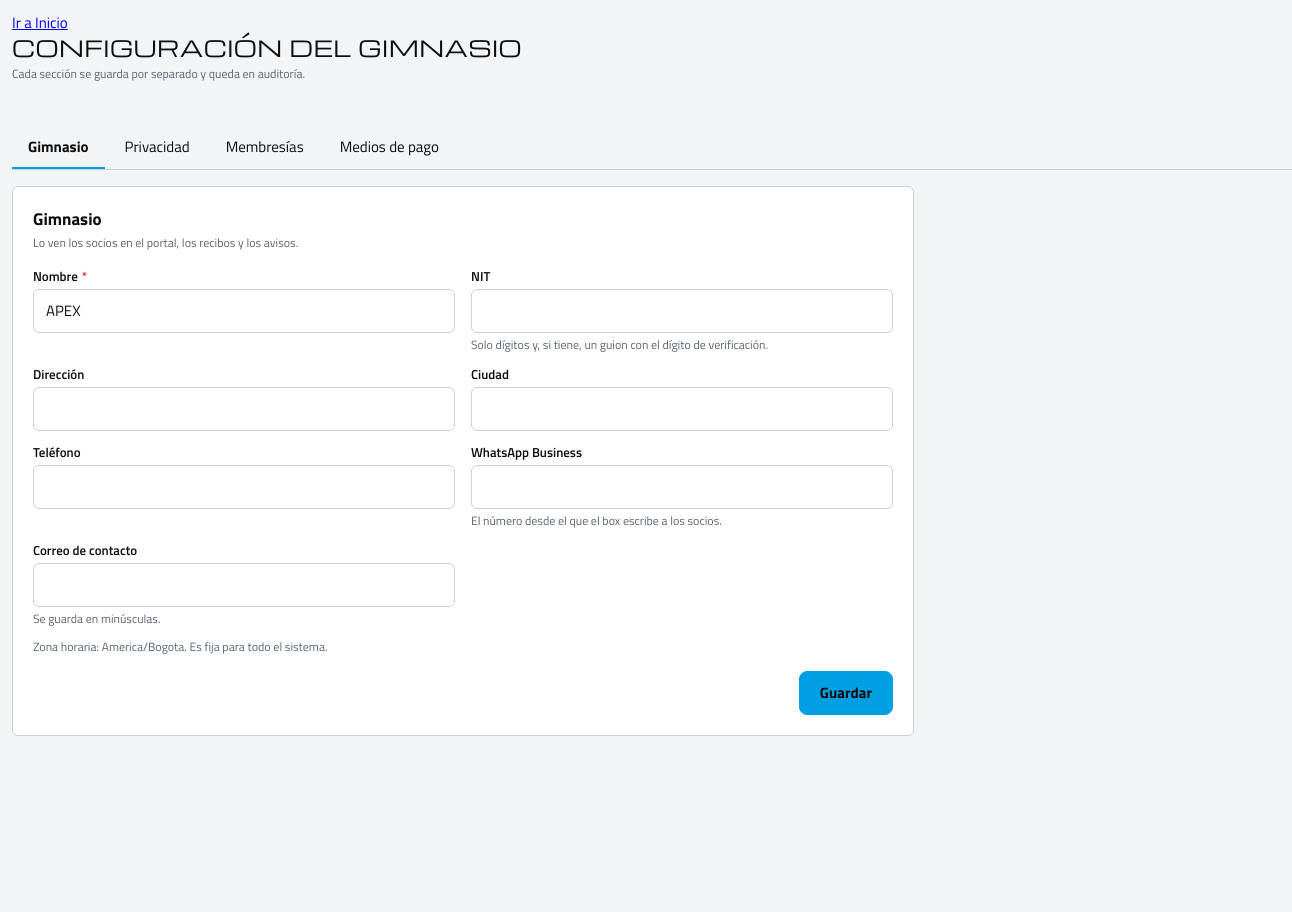
Test: ConfigPage › cambiar de pestaña sin cambios no pide confirmación y deja la pestaña en la URL
Click the tab "Membresías" at (265, 148), box [210, 126, 320, 170]
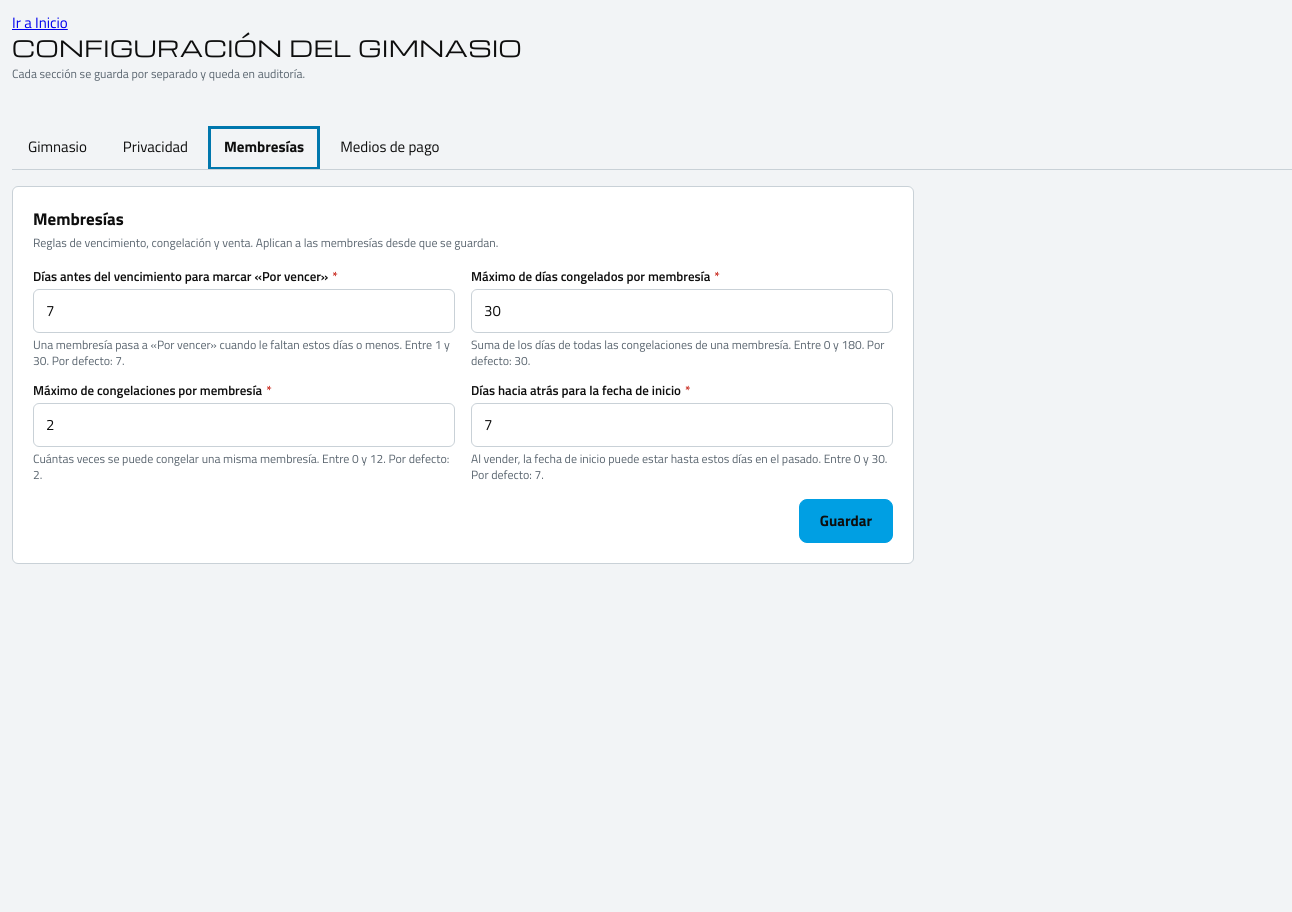
Now the number field labelled "Días antes del vencimiento para marcar «Por vencer»*" is shown, box [33, 289, 455, 333]
